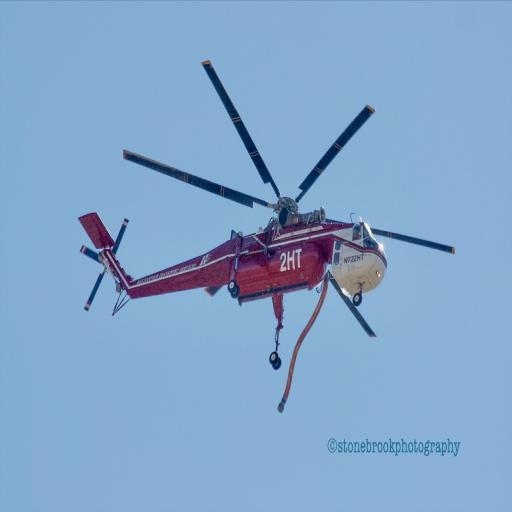helicopter: (57, 67, 470, 425)
